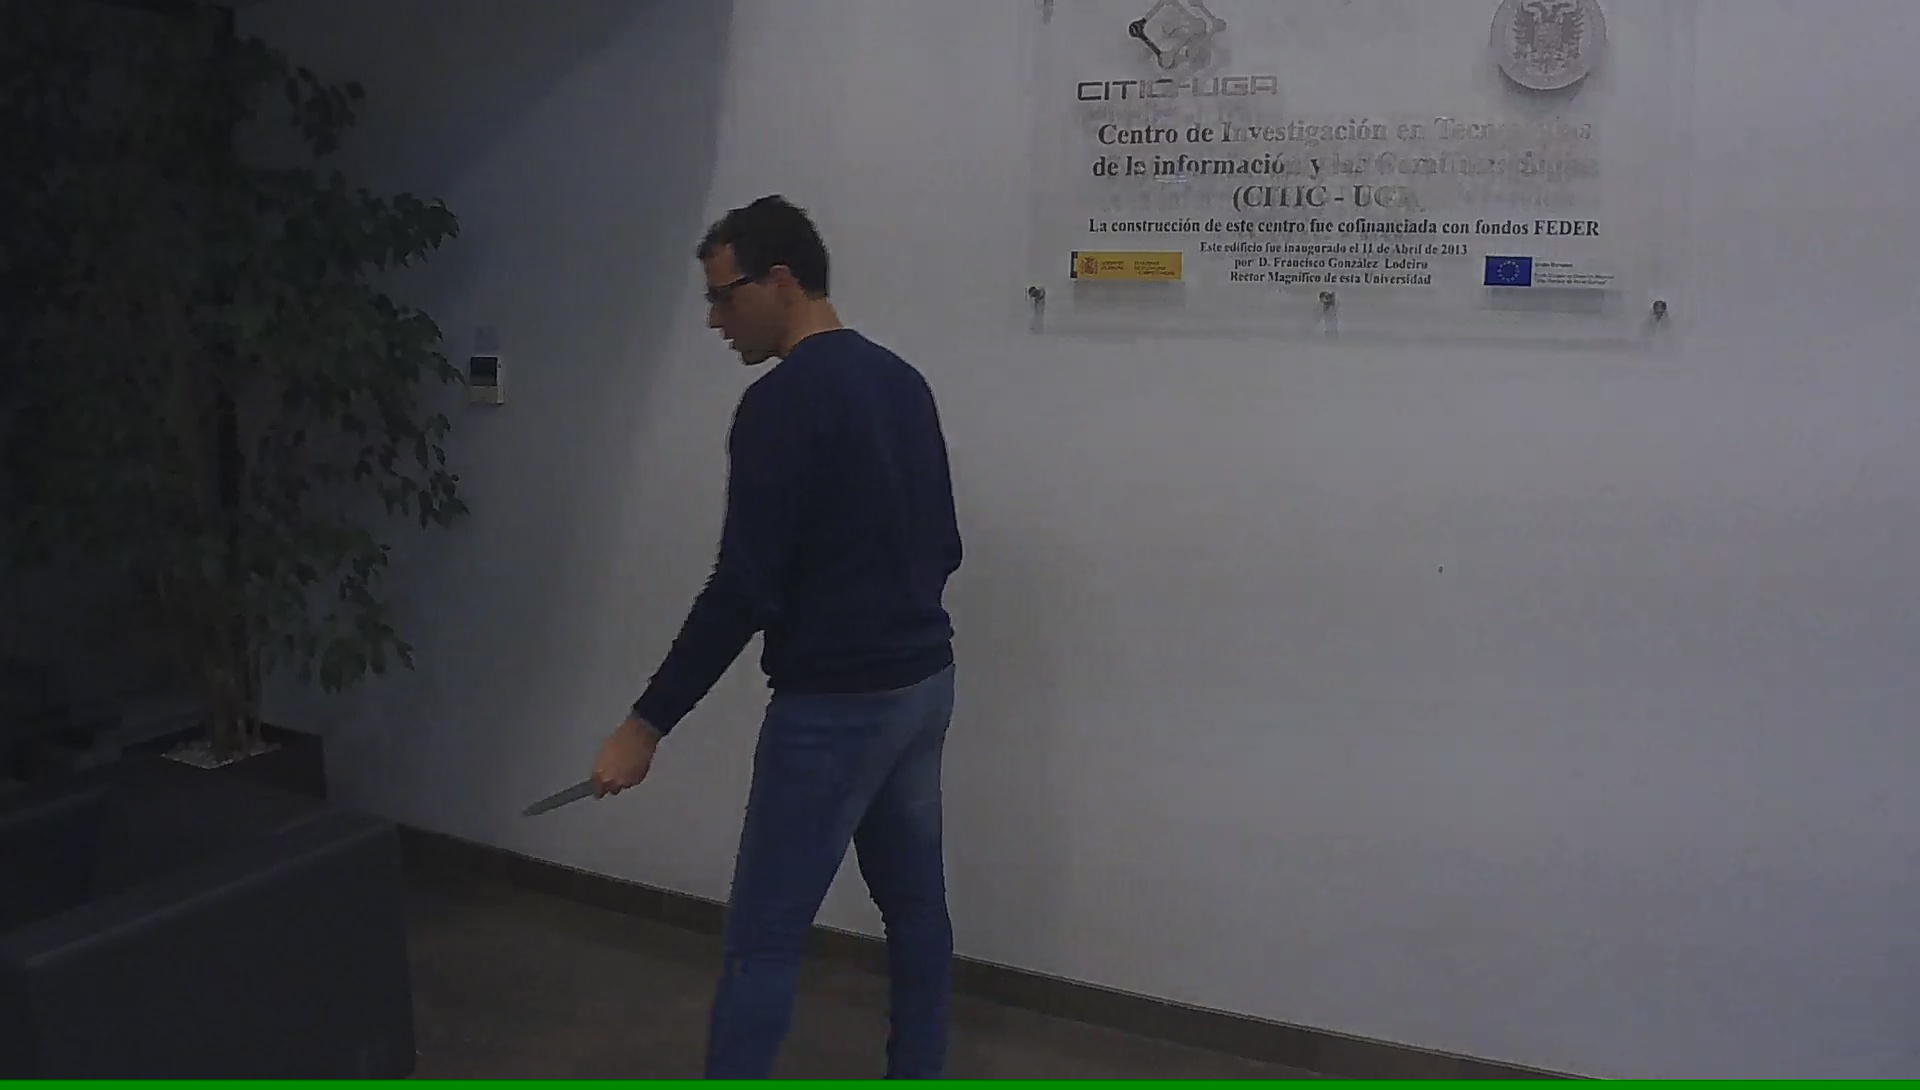knife: (506, 758, 647, 826)
